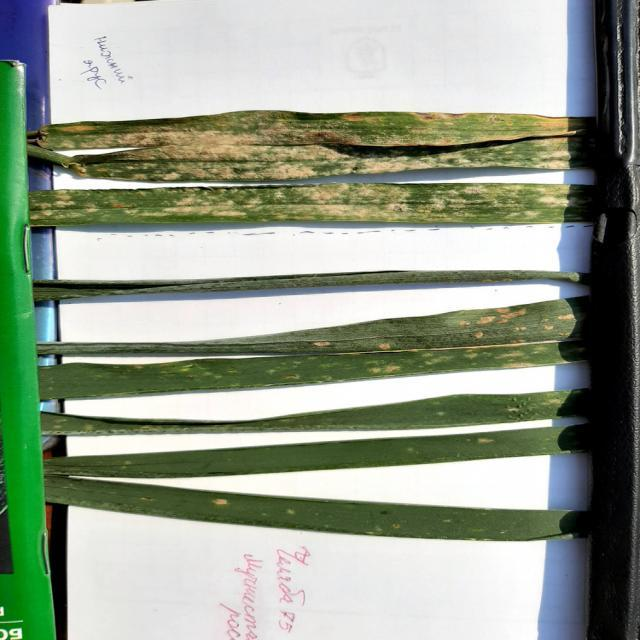wheat-powdery-mildew: (28, 111, 577, 227), (39, 300, 576, 401)
